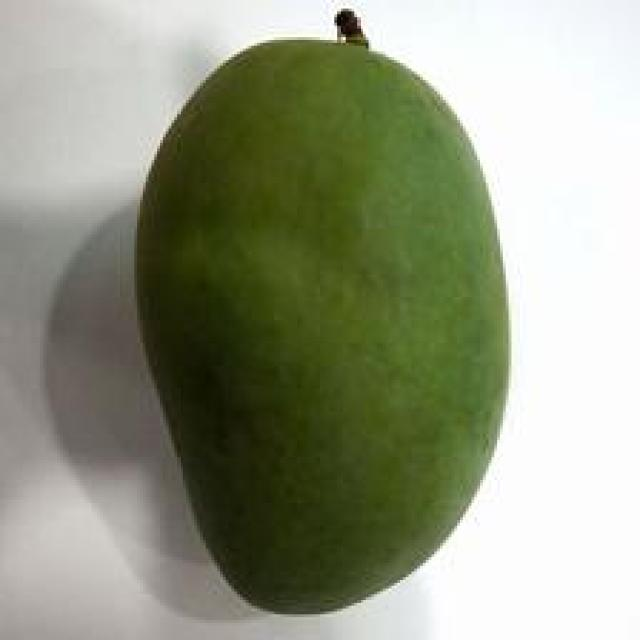Good_Mango: (131, 11, 511, 617)
